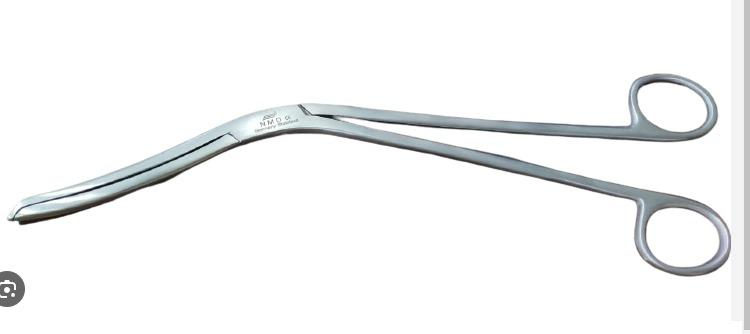Cheatle Forceps: (4, 62, 735, 277)
